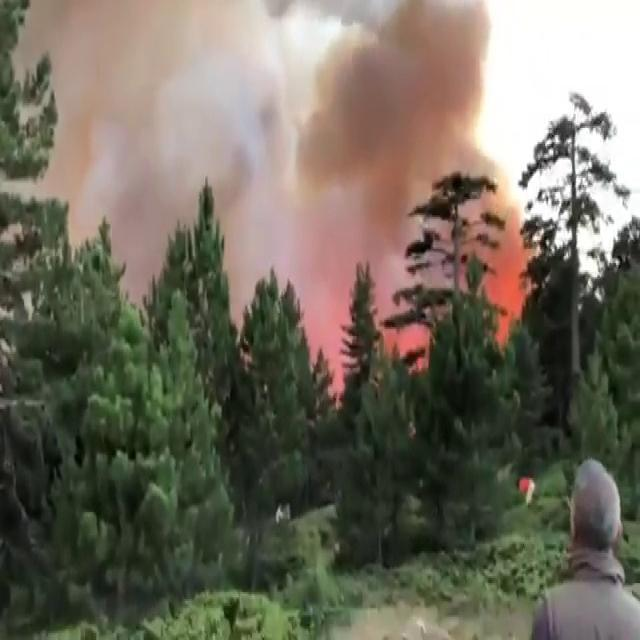Smoke: (23, 0, 274, 287)
